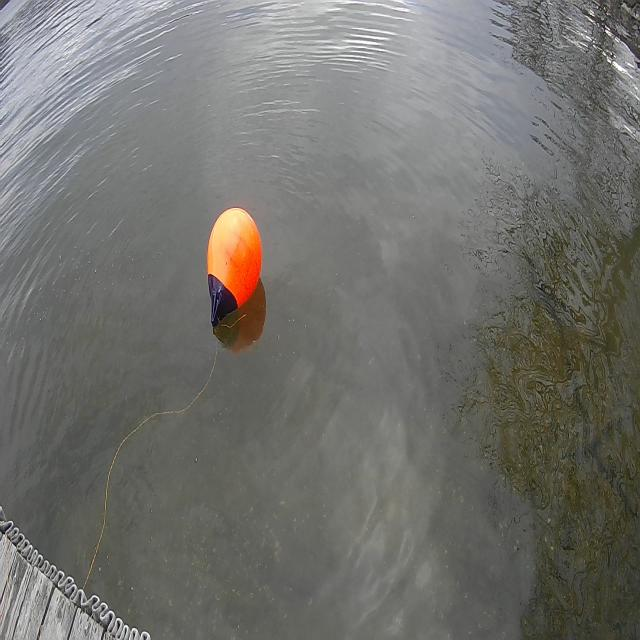Buoy: (206, 204, 263, 312)
